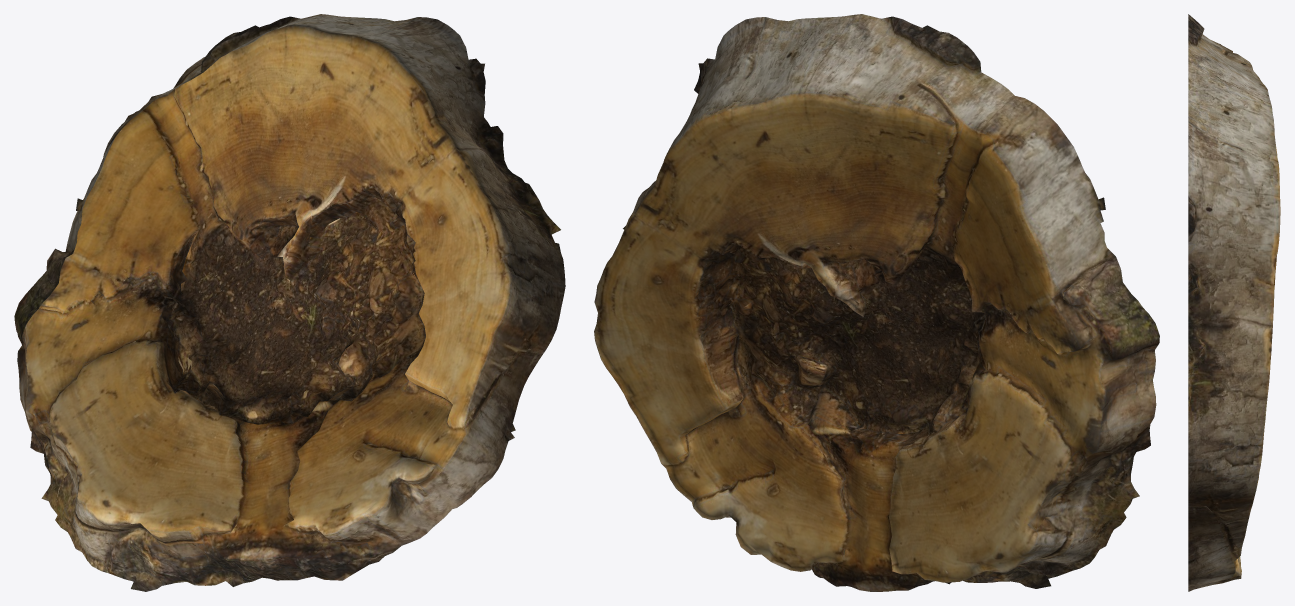
File: pine_tree_stump_02.glb
The picture shows the model from 3 angles, left to right: view 1: azimuth 30°, elevation 25°; view 2: azimuth 150°, elevation 25°; view 3: azimuth 270°, elevation 25°; orthographic projection. The views are drawn at different scales.
Visible parts, largest first — view 1: Pine Tree Stump 02; view 2: Pine Tree Stump 02; view 3: Pine Tree Stump 02.
Boxes of the visible parts, box(x1,y1,x2,y2) form: Pine Tree Stump 02: box(14, 14, 565, 591); Pine Tree Stump 02: box(594, 14, 1159, 591); Pine Tree Stump 02: box(1188, 14, 1280, 591).
Bounding box in the file's own units: 0.6719 × 0.681 × 0.1098.
Materials: 1 (1 with a texture image).
